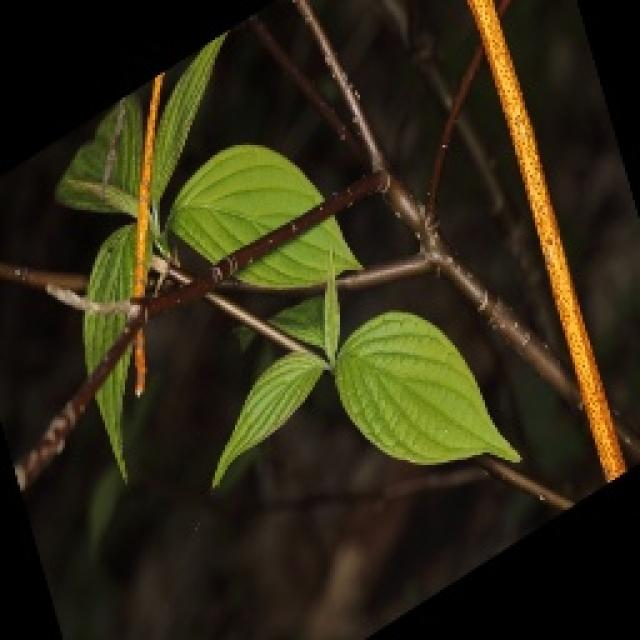Golden_canker: (417, 0, 640, 546), (104, 55, 174, 412)
